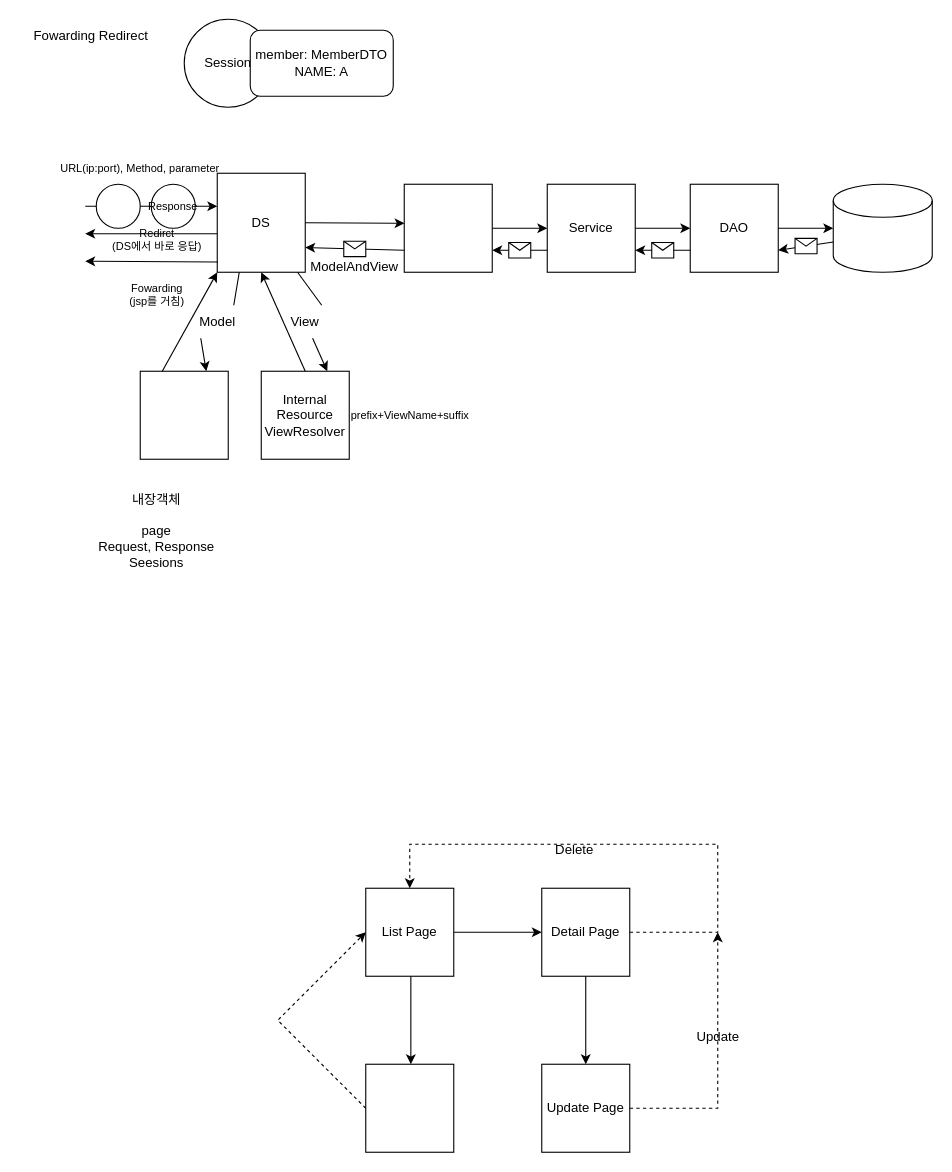
Some shapes in this 952 by 1172 pixel diagram are drawn without their labels. Each missing label, with the centre of its shape:
"Add Page" belongs at point 409,1107.
"Controller" belongs at point 447,227.
"DB" belongs at point 882,227.
"JSP" belongs at point 183,414.
"Request" belongs at point 117,205.
